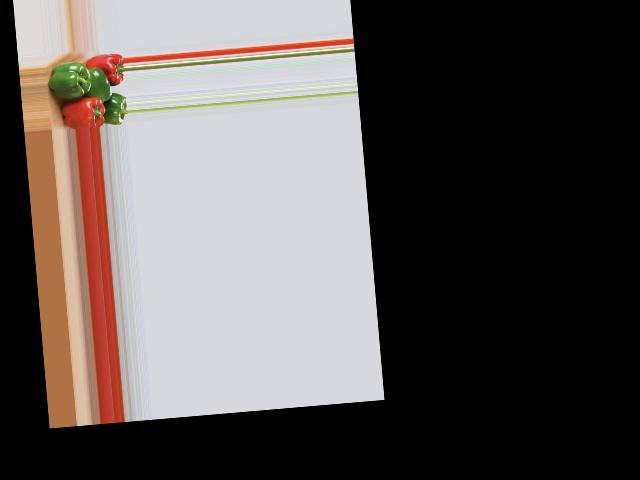bell_pepper: (56, 94, 105, 130)
